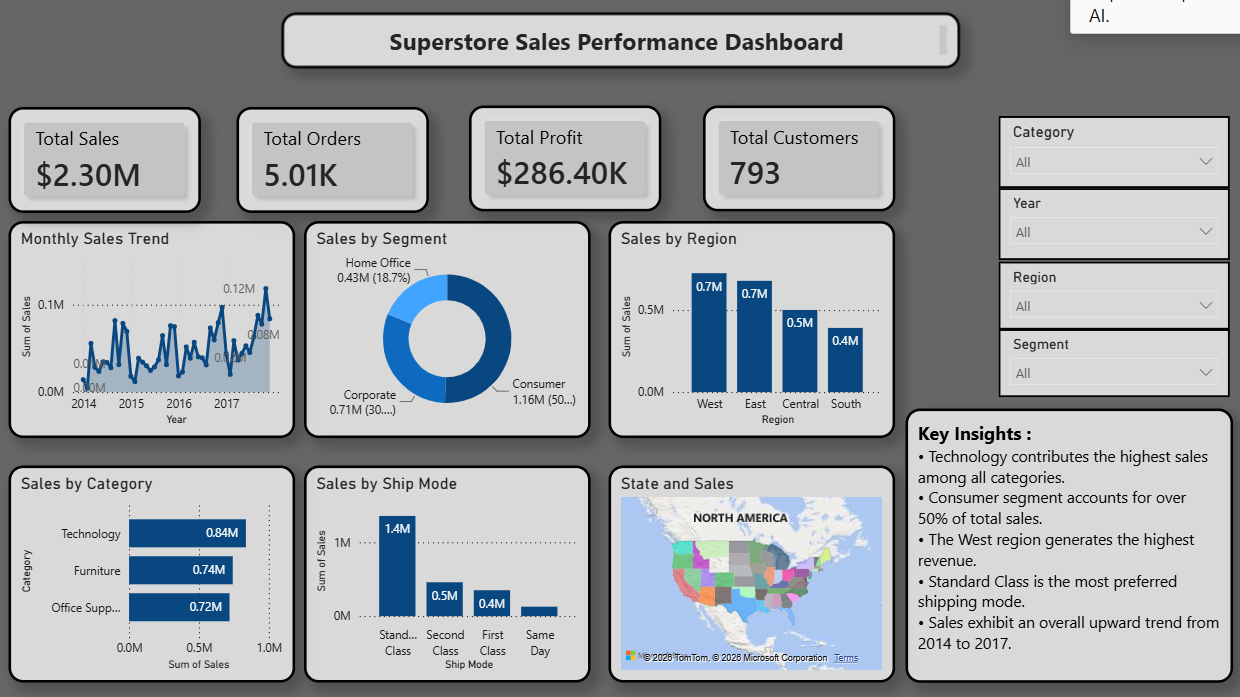

The page's visual inventory and layout, read from the dashboard file:
{"tool":"powerbi","page":{"name":"Page 1","canvas":[1280,720],"ordinal":0},"visuals":[{"type":"cardVisual","fields":{"Data":["Count(Sample - Superstore.Order ID)"]},"box":[244.3,110,197.1,108.6],"z":0},{"type":"cardVisual","fields":{"Data":["Count(Sample - Superstore.Customer Name)"]},"box":[722.9,108.6,197.1,108.6],"z":1000},{"type":"cardVisual","fields":{"Data":["Sum(Sample - Superstore.Profit)"]},"box":[482.9,108.6,197.1,108.6],"z":2000},{"type":"lineChart","title":"Monthly Sales Trend","fields":{"Y":["Sum(Sample - Superstore.Sales)"],"Category":["Sample - Superstore.Order Date.Variation.Date Hierarchy.Year","Sample - Superstore.Order Date.Variation.Date Hierarchy.Month"]},"box":[10,227.1,294.3,222.9],"z":3000},{"type":"columnChart","title":"Sales by Region","fields":{"Y":["Sum(Sample - Superstore.Sales)"],"Category":["Sample - Superstore.Region"]},"box":[625.7,227.1,294.3,222.9],"z":4000},{"type":"clusteredBarChart","title":"Sales by Category","fields":{"Category":["Sample - Superstore.Category"],"Y":["Sum(Sample - Superstore.Sales)"]},"box":[10,478.6,294.3,222.9],"z":5000},{"type":"clusteredColumnChart","title":"Sales by Ship Mode","fields":{"Y":["Sum(Sample - Superstore.Sales)"],"Category":["Sample - Superstore.Ship Mode"]},"box":[314.3,478.6,294.3,222.9],"z":6000},{"type":"donutChart","title":"Sales by Segment","fields":{"Y":["Sum(Sample - Superstore.Sales)"],"Series":["Sample - Superstore.Segment"]},"box":[314.3,227.1,294.3,222.9],"z":7000},{"type":"slicer","fields":{"Values":["Sample - Superstore.Order Date.Variation.Date Hierarchy.Year"]},"box":[1025.7,194.3,237.1,74.3],"z":8000},{"type":"slicer","fields":{"Values":["Sample - Superstore.Region"]},"box":[1025.7,268.6,237.1,70],"z":9000},{"type":"slicer","fields":{"Values":["Sample - Superstore.Segment"]},"box":[1025.7,338.6,237.1,70],"z":10000},{"type":"slicer","fields":{"Values":["Sample - Superstore.Category"]},"box":[1025.7,120,237.1,74.3],"z":11000},{"type":"cardVisual","fields":{"Data":["Sum(Sample - Superstore.Sales)"]},"box":[10,110,197.1,108.6],"z":12000},{"type":"filledMap","fields":{"Series":["Sample - Superstore.Sales"],"Category":["Sample - Superstore.State"]},"box":[625.7,478.6,294.3,222.9],"z":13000},{"type":"textbox","box":[931.4,420,335.7,281.4],"z":14000},{"type":"textbox","box":[291.4,14.3,695.7,57.1],"z":15000}]}

Visuals, with their boxes in screenshot pixels (x1, y1, x2, y2), scaled from the page's 1280x720 canvas onto the 1240x697 screenshot:
cardVisual - Count(Sample - Superstore.Order ID): select_region(237, 106, 428, 212)
cardVisual - Count(Sample - Superstore.Customer Name): select_region(700, 105, 891, 210)
cardVisual - Sum(Sample - Superstore.Profit): select_region(468, 105, 659, 210)
"Monthly Sales Trend" lineChart: select_region(10, 220, 295, 436)
"Sales by Region" columnChart: select_region(606, 220, 891, 436)
"Sales by Category" clusteredBarChart: select_region(10, 463, 295, 679)
"Sales by Ship Mode" clusteredColumnChart: select_region(304, 463, 590, 679)
"Sales by Segment" donutChart: select_region(304, 220, 590, 436)
slicer - Sample - Superstore.Order Date.Variation.Date Hierarchy.Year: select_region(994, 188, 1223, 260)
slicer - Sample - Superstore.Region: select_region(994, 260, 1223, 328)
slicer - Sample - Superstore.Segment: select_region(994, 328, 1223, 396)
slicer - Sample - Superstore.Category: select_region(994, 116, 1223, 188)
cardVisual - Sum(Sample - Superstore.Sales): select_region(10, 106, 201, 212)
filledMap - Sample - Superstore.Sales x Sample - Superstore.State: select_region(606, 463, 891, 679)
textbox: select_region(902, 407, 1228, 679)
textbox: select_region(282, 14, 956, 69)
